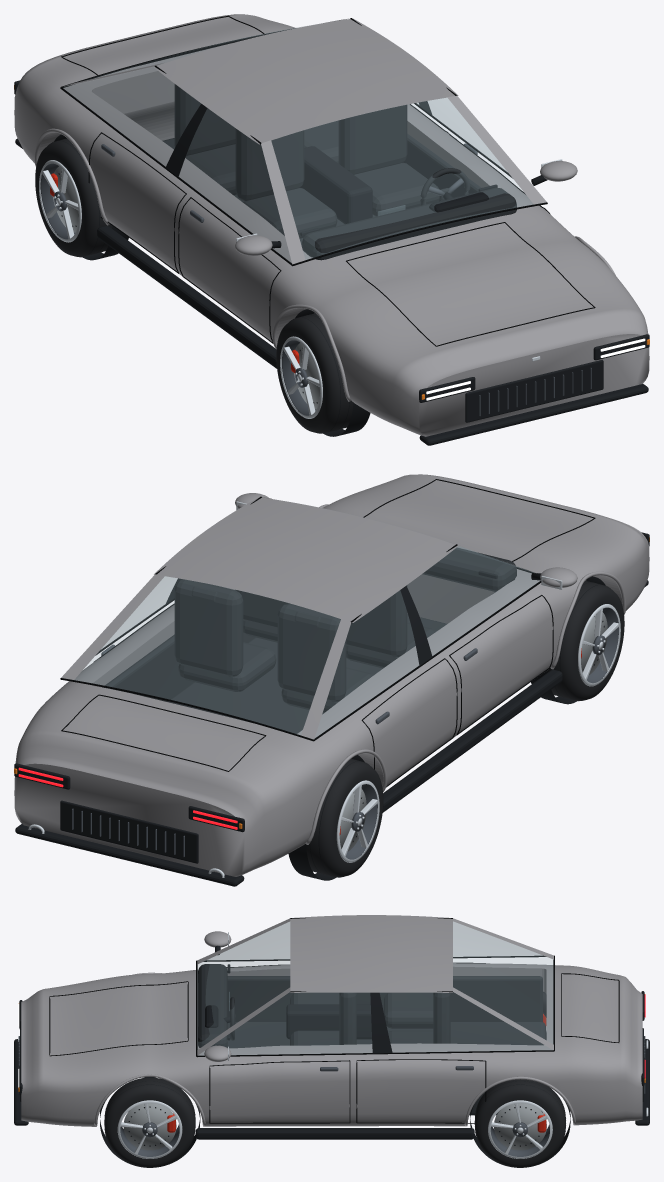
Rendered from interceptor.glb.
3 views of the same model, one above another, from view 1: azimuth 30°, elevation 25°; view 2: azimuth 150°, elevation 25°; view 3: azimuth 270°, elevation 25° (orthographic). The views are drawn at different scales.
Parts seen in each view (by area): view 1: Sculpted body shell.013, Windshield.013, Painted roof.013, Side glass.026, Interior dashboard.013, Front grille housing.013, Interior seat back.043, Tire.054, Rocker aero sill.026, Interior seat back.042, Tire.052, Interior centre console.013 (+28 smaller); view 2: Sculpted body shell.013, Rear glass.013, Painted roof.013, Side glass.026, Interior seat back.045, Interior cabin floor.013, Interior seat back.044, Rear diffuser grille.013, Tire.052, Rocker aero sill.026, Tire.054, Interior door card.027 (+29 smaller); view 3: Sculpted body shell.013, Side glass.027, Painted roof.013, Rear glass.013, Interior door card.026, Windshield.013, Tire.055, Interior cabin floor.013, Tire.053, Rocker aero sill.027, Side glass.026, Interior centre console.013 (+28 smaller).
Part boxes in pixels (<box>): Sculpted body shell.013: <box>14,14,649,436</box>; Windshield.013: <box>272,98,532,259</box>; Painted roof.013: <box>161,19,449,141</box>; Side glass.026: <box>63,67,291,262</box>; Interior dashboard.013: <box>302,187,516,260</box>; Front grille housing.013: <box>465,359,603,422</box>; Interior seat back.043: <box>338,104,407,174</box>; Tire.054: <box>276,313,353,433</box>; Rocker aero sill.026: <box>97,226,276,368</box>; Interior seat back.042: <box>235,128,304,200</box>; Tire.052: <box>35,138,112,256</box>; Interior centre console.013: <box>300,146,372,224</box>; Sculpted body shell.013: <box>14,474,649,876</box>; Rear glass.013: <box>75,576,340,734</box>; Painted roof.013: <box>162,498,450,619</box>; Side glass.026: <box>315,546,539,737</box>; Interior seat back.045: <box>174,579,243,676</box>; Interior cabin floor.013: <box>168,614,447,733</box>; Interior seat back.044: <box>277,604,346,701</box>; Rear diffuser grille.013: <box>60,800,198,863</box>; Tire.052: <box>306,759,383,877</box>; Rocker aero sill.026: <box>382,669,562,812</box>; Tire.054: <box>547,581,624,700</box>; Interior door card.027: <box>102,590,255,701</box>; Sculpted body shell.013: <box>21,963,642,1126</box>; Side glass.027: <box>199,992,551,1055</box>; Painted roof.013: <box>290,915,452,991</box>; Rear glass.013: <box>453,922,553,1043</box>; Interior door card.026: <box>227,976,542,1021</box>; Windshield.013: <box>197,922,289,1048</box>; Tire.055: <box>104,1077,195,1167</box>; Interior cabin floor.013: <box>227,1022,546,1048</box>; Tire.053: <box>474,1079,565,1167</box>; Rocker aero sill.027: <box>195,1128,474,1139</box>; Side glass.026: <box>209,922,541,959</box>; Interior centre console.013: <box>286,1004,371,1039</box>.
Bounding box in the file's own units: 2.43 × 1.51 × 5.15.
